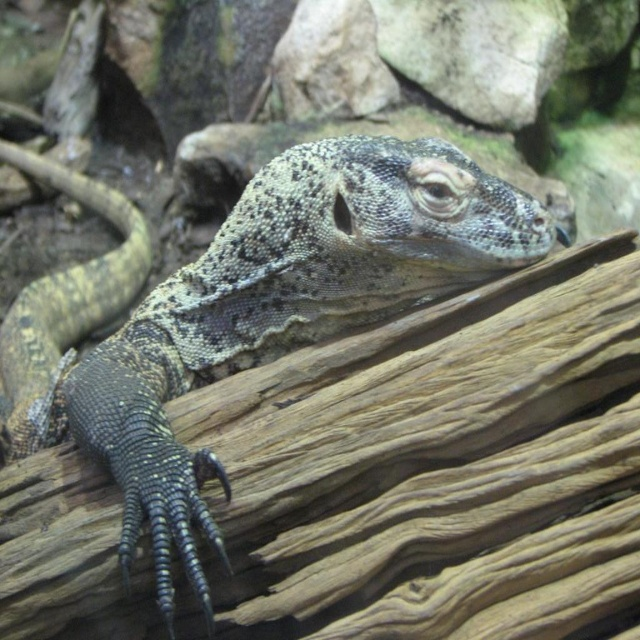Lizard: (0, 139, 590, 621)
